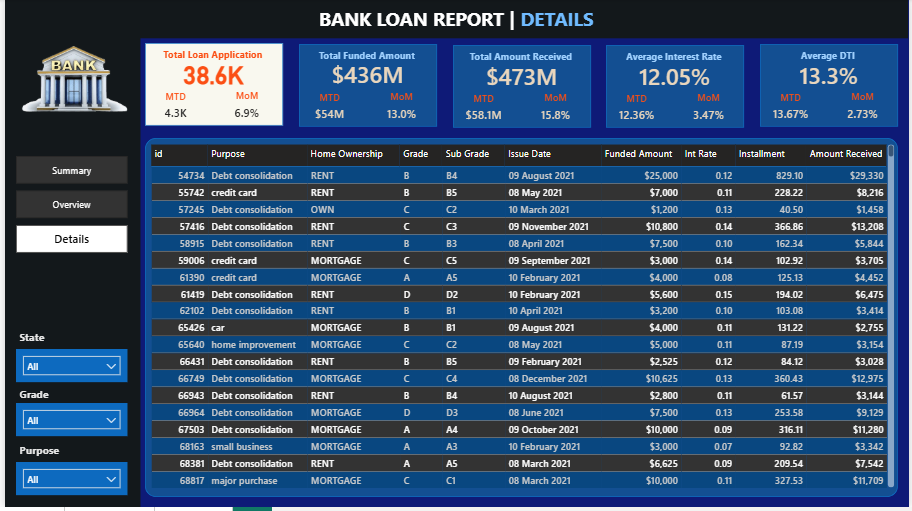

Layout of this report page (visuals, bound fields, positions):
{"tool":"powerbi","page":{"name":"Details","canvas":[1280,720],"ordinal":2},"visuals":[{"type":"shape","box":[0,0,1280,55.7],"z":0},{"type":"shape","box":[0,55.3,192,664.7],"z":1000},{"type":"textbox","box":[415.7,4.3,448.6,45.7],"z":2000},{"type":"group","id":"g1","title":"Group 1","box":[198.6,62.9,195.7,117.1],"z":3000},{"type":"shape","box":[198.6,62.9,195.7,117.1],"z":3000,"group":"g1"},{"type":"shape","box":[416.4,63.6,195.7,117.1],"z":3000,"group":"g2"},{"type":"shape","box":[1070,64.3,195.7,117.1],"z":3000,"group":"g5"},{"type":"shape","box":[634.3,65,195.7,117.1],"z":3000,"group":"g3"},{"type":"shape","box":[852.1,65.7,195.7,117.1],"z":3000,"group":"g4"},{"type":"group","id":"g2","title":"Group 1","box":[416.4,63.6,195.7,117.1],"z":4000},{"type":"cardVisual","fields":{"Data":["financial_loan.Total Loan Applications"]},"box":[217.2,71.5,157.1,72.9],"z":4000,"group":"g1"},{"type":"cardVisual","fields":{"Data":["financial_loan.Total Funded Amount"]},"box":[434,72.4,161.4,65.7],"z":4000,"group":"g2"},{"type":"cardVisual","fields":{"Data":["financial_loan.Avg DTI"]},"box":[1087.1,74.7,160,64.3],"z":4000,"group":"g5"},{"type":"cardVisual","fields":{"Data":["financial_loan.Total Amount Received"]},"box":[651.4,75.4,160,64.3],"z":4000,"group":"g3"},{"type":"cardVisual","fields":{"Data":["financial_loan.Avg Interest Rate"]},"box":[869.2,76.1,160,64.3],"z":4000,"group":"g4"},{"type":"textbox","box":[214.3,65.8,161.4,45.7],"z":5000,"group":"g1"},{"type":"textbox","box":[432.1,66.5,161.4,45.7],"z":5000,"group":"g2"},{"type":"textbox","box":[1085.7,67.2,161.4,45.7],"z":5000,"group":"g5"},{"type":"textbox","box":[650,67.9,161.4,45.7],"z":5000,"group":"g3"},{"type":"textbox","box":[867.8,68.6,161.4,45.7],"z":5000,"group":"g4"},{"type":"shape","box":[198.4,197,1067.2,508.8],"z":5000},{"type":"group","id":"g3","title":"Group 1","box":[634.3,65,195.7,117.1],"z":6000},{"type":"cardVisual","title":"MTD","fields":{"Data":["financial_loan.MTD Loan Applications"]},"box":[198.6,130,87.1,47.1],"z":6000,"group":"g1"},{"type":"cardVisual","title":"MTD","fields":{"Data":["financial_loan.MTD Funded Amount"]},"box":[416.4,130.7,87.1,47.1],"z":6000,"group":"g2"},{"type":"cardVisual","title":"MTD","fields":{"Data":["financial_loan.MTD Avg DTI"]},"box":[1070,131.4,87.1,47.1],"z":6000,"group":"g5"},{"type":"cardVisual","title":"MTD","fields":{"Data":["financial_loan.MTD Total Amount Received"]},"box":[634.3,132.1,87.1,47.1],"z":6000,"group":"g3"},{"type":"cardVisual","title":"MTD","fields":{"Data":["financial_loan.MTD Avg Int Rate"]},"box":[852.1,132.8,87.1,47.1],"z":6000,"group":"g4"},{"type":"group","id":"g4","title":"Group 1","box":[852.1,65.7,195.7,117.1],"z":7000},{"type":"cardVisual","title":"MoM","fields":{"Data":["financial_loan.MoM Total Funded Amount"]},"box":[528.2,128.1,67.1,51.4],"z":7000,"group":"g2"},{"type":"cardVisual","title":"MoM","fields":{"Data":["financial_loan.MoM Loan Applications"]},"box":[310,128.6,65.7,50],"z":7000,"group":"g1"},{"type":"cardVisual","title":"MoM","fields":{"Data":["financial_loan.MoM Avg DTI"]},"box":[1181.8,128.8,67.1,51.4],"z":7000,"group":"g5"},{"type":"cardVisual","title":"MoM","fields":{"Data":["financial_loan.MoM Total Amount Received"]},"box":[746.1,129.5,67.1,51.4],"z":7000,"group":"g3"},{"type":"cardVisual","title":"MoM","fields":{"Data":["financial_loan.MoM Avg Int Rate"]},"box":[963.9,130.2,67.1,51.4],"z":7000,"group":"g4"},{"type":"group","id":"g5","title":"Group 1","box":[1070,64.3,195.7,117.1],"z":8000},{"type":"slicer","fields":{"Values":["financial_loan.address_state"]},"box":[16.3,496.4,158.2,47.3],"z":9000},{"type":"textbox","box":[16.3,463.9,81.3,42.9],"z":10000},{"type":"slicer","fields":{"Values":["financial_loan.grade"]},"box":[16.3,573.2,158.2,47.3],"z":11000},{"type":"textbox","box":[16.3,543.7,81.3,42.9],"z":12000},{"type":"textbox","box":[16.3,623.6,81.3,42.9],"z":13000},{"type":"slicer","fields":{"Values":["financial_loan.purpose"]},"box":[16.3,656.1,158.2,47.3],"z":14000},{"type":"tableEx","fields":{"Values":["financial_loan.id","financial_loan.purpose","financial_loan.home_ownership","financial_loan.grade","financial_loan.sub_grade","financial_loan.issue_date","financial_loan.Total Funded Amount","Sum(financial_loan.int_rate)","Sum(financial_loan.installment)","financial_loan.Total Amount Received"]},"box":[201.3,201.3,1064.4,496.1],"z":17000},{"type":"image","box":[18.4,22.7,155.9,181.4],"z":18000},{"type":"pageNavigator","box":[15.6,222.5,158.7,137.5],"z":19000}]}

Visuals, with their boxes in screenshot pixels (x1, y1, x2, y2), scaled from the page's 1280x720 canvas onto the 912x511 screenshot:
shape: (x1=0, y1=0, x2=911, y2=40)
shape: (x1=0, y1=39, x2=137, y2=510)
textbox: (x1=296, y1=3, x2=616, y2=35)
"Group 1" group: (x1=142, y1=45, x2=281, y2=128)
shape: (x1=142, y1=45, x2=281, y2=128)
shape: (x1=297, y1=45, x2=436, y2=128)
shape: (x1=762, y1=46, x2=902, y2=129)
shape: (x1=452, y1=46, x2=591, y2=129)
shape: (x1=607, y1=47, x2=747, y2=130)
"Group 1" group: (x1=297, y1=45, x2=436, y2=128)
cardVisual - financial_loan.Total Loan Applications: (x1=155, y1=51, x2=267, y2=102)
cardVisual - financial_loan.Total Funded Amount: (x1=309, y1=51, x2=424, y2=98)
cardVisual - financial_loan.Avg DTI: (x1=775, y1=53, x2=889, y2=99)
cardVisual - financial_loan.Total Amount Received: (x1=464, y1=54, x2=578, y2=99)
cardVisual - financial_loan.Avg Interest Rate: (x1=619, y1=54, x2=733, y2=100)
textbox: (x1=153, y1=47, x2=268, y2=79)
textbox: (x1=308, y1=47, x2=423, y2=80)
textbox: (x1=774, y1=48, x2=889, y2=80)
textbox: (x1=463, y1=48, x2=578, y2=81)
textbox: (x1=618, y1=49, x2=733, y2=81)
shape: (x1=141, y1=140, x2=902, y2=501)
"Group 1" group: (x1=452, y1=46, x2=591, y2=129)
"MTD" cardVisual: (x1=142, y1=92, x2=204, y2=126)
"MTD" cardVisual: (x1=297, y1=93, x2=359, y2=126)
"MTD" cardVisual: (x1=762, y1=93, x2=824, y2=127)
"MTD" cardVisual: (x1=452, y1=94, x2=514, y2=127)
"MTD" cardVisual: (x1=607, y1=94, x2=669, y2=128)
"Group 1" group: (x1=607, y1=47, x2=747, y2=130)
"MoM" cardVisual: (x1=376, y1=91, x2=424, y2=127)
"MoM" cardVisual: (x1=221, y1=91, x2=268, y2=127)
"MoM" cardVisual: (x1=842, y1=91, x2=890, y2=128)
"MoM" cardVisual: (x1=532, y1=92, x2=579, y2=128)
"MoM" cardVisual: (x1=687, y1=92, x2=735, y2=129)
"Group 1" group: (x1=762, y1=46, x2=902, y2=129)
slicer - financial_loan.address_state: (x1=12, y1=352, x2=124, y2=386)
textbox: (x1=12, y1=329, x2=70, y2=360)
slicer - financial_loan.grade: (x1=12, y1=407, x2=124, y2=440)
textbox: (x1=12, y1=386, x2=70, y2=416)
textbox: (x1=12, y1=443, x2=70, y2=473)
slicer - financial_loan.purpose: (x1=12, y1=466, x2=124, y2=499)
tableEx - financial_loan.id x financial_loan.purpose: (x1=143, y1=143, x2=902, y2=495)
image: (x1=13, y1=16, x2=124, y2=145)
pageNavigator: (x1=11, y1=158, x2=124, y2=256)
